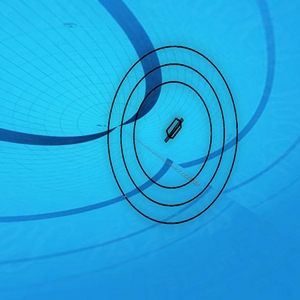circle: (104, 40, 240, 226)
submarine: (165, 118, 187, 145)
